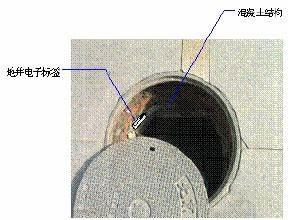wellcover: (80, 63, 246, 220)
